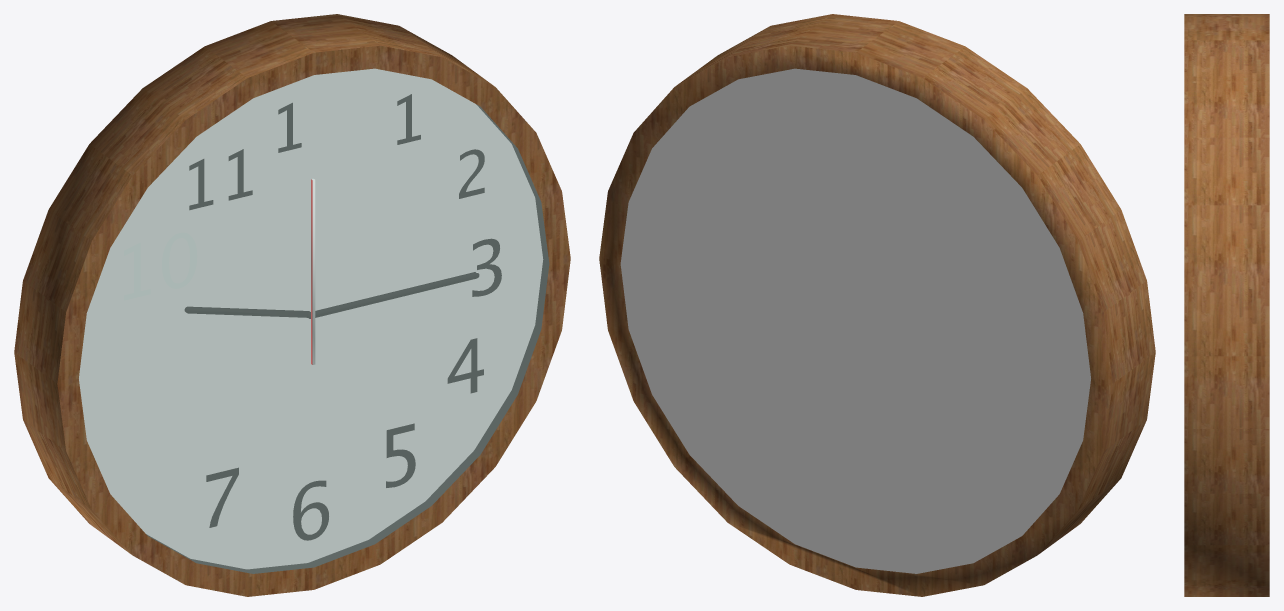
3 views of the same model, side by side, from view 1: azimuth 30°, elevation 25°; view 2: azimuth 150°, elevation 25°; view 3: azimuth 270°, elevation 25° (orthographic).
Parts seen in each view (by area): view 1: object 1, 10, 6#1, 11, object 9, 5#1, 4#1; view 2: object 1; view 3: object 1.
Boxes of the visible parts, box(x1,y1,x2,y2) form: object 1: box(14, 14, 570, 596); 10: box(124, 233, 196, 299); 6#1: box(293, 480, 328, 540); 11: box(189, 149, 252, 209); object 9: box(184, 306, 309, 317); 5#1: box(386, 423, 415, 487); 4#1: box(447, 338, 483, 393); object 1: box(599, 14, 1155, 596); object 1: box(1184, 14, 1269, 596).
Size of the model in its own units: 0.3111 by 0.3111 by 0.0454.
6 materials, 1 textured.
